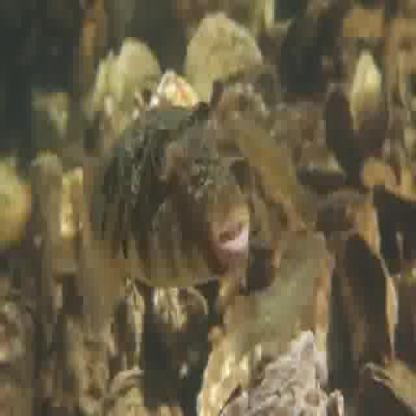3: (132, 85, 158, 118)
Oyster- Indeterminate: (99, 361, 187, 416), (253, 171, 301, 238), (358, 361, 416, 416), (0, 291, 37, 370)
Oyster-Closed: (303, 186, 381, 337), (226, 333, 342, 416), (183, 13, 260, 95), (27, 155, 77, 265), (111, 42, 162, 107), (353, 51, 384, 154), (0, 161, 31, 250), (157, 69, 199, 110), (93, 50, 116, 107)
